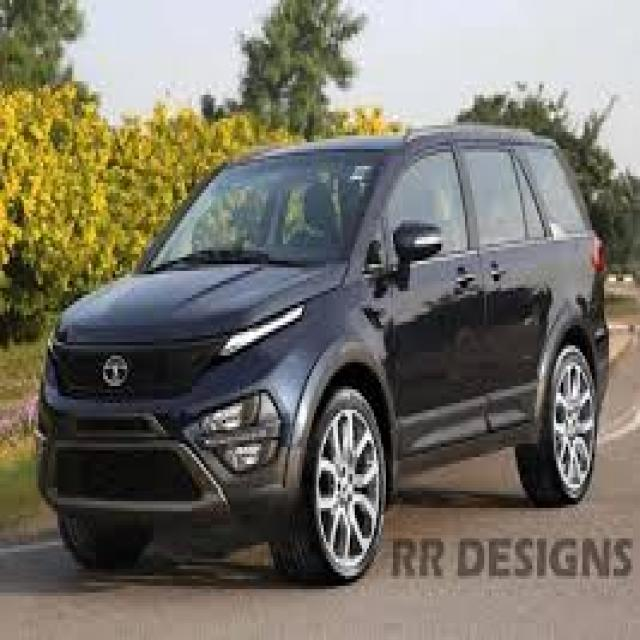SUV: (31, 125, 609, 593)
